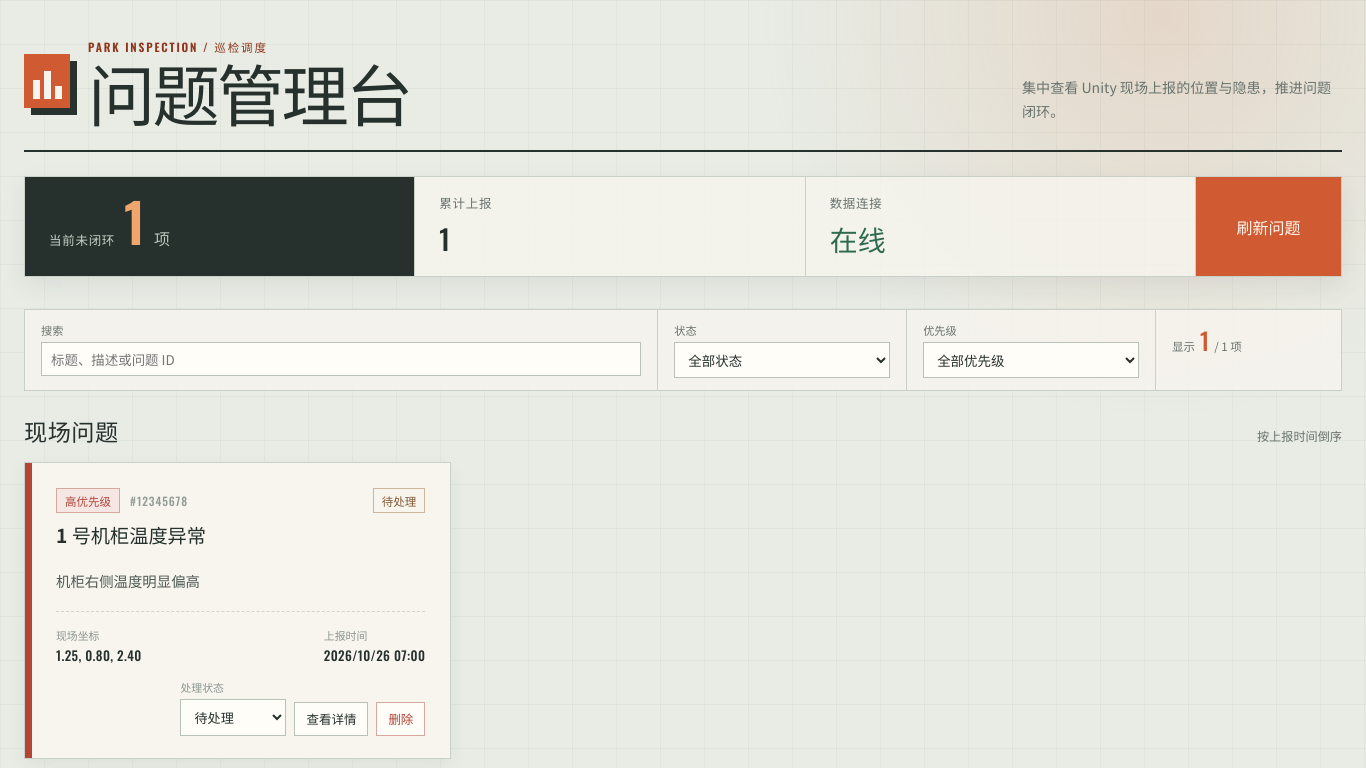
App › deletes an issue after confirmation and refreshes the list
Expected: the heading "1 号机柜温度异常" is shown, [56, 522, 206, 550]
What coordinates should you click on to do the following:
click the button "删除"
I would click on:
 (401, 719)
Its box is [376, 702, 425, 736].
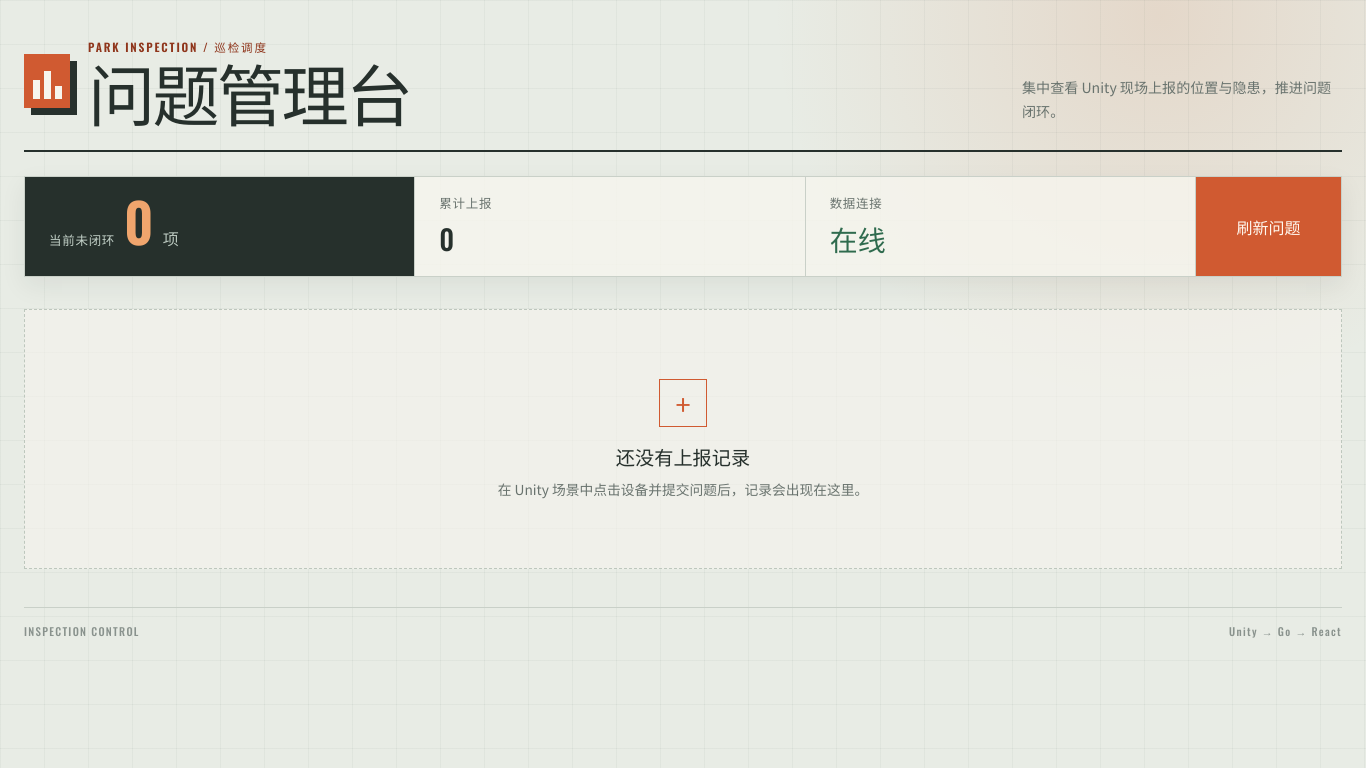
Now the heading "还没有上报记录" is shown, box [616, 443, 750, 471]
